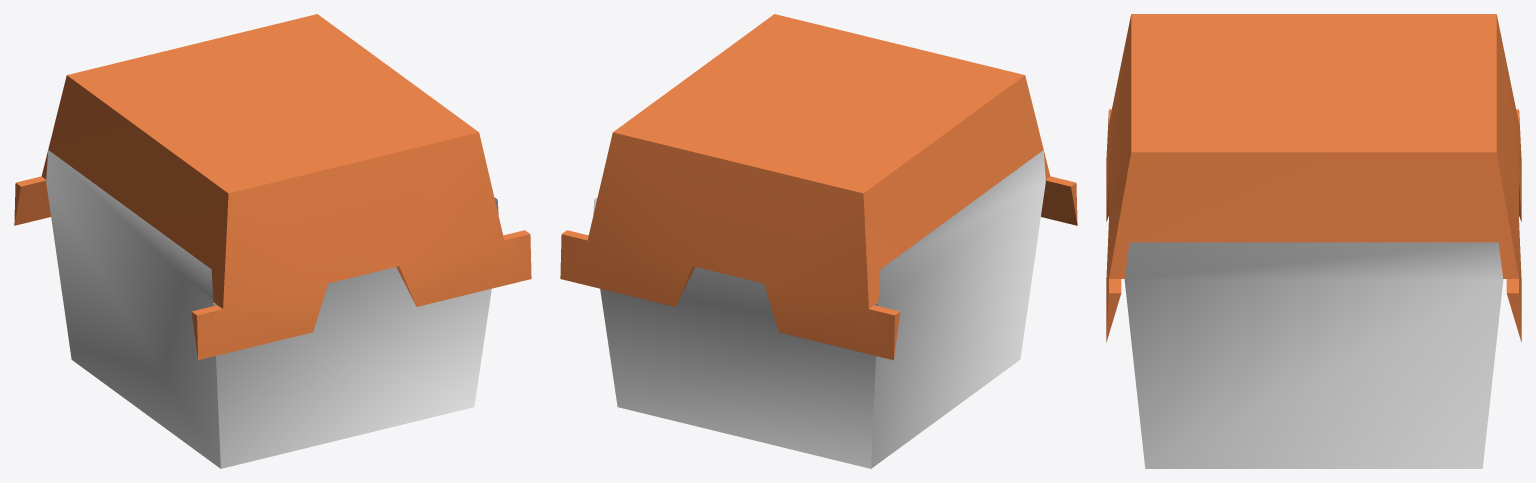
The model's file is Takeout_Box_geo.fbx.
3 renders of one model, left to right at view 1: azimuth 30°, elevation 25°; view 2: azimuth 150°, elevation 25°; view 3: azimuth 270°, elevation 25°, orthographic. The views are drawn at different scales.
Visible parts, largest first — view 1: Takeout_Box_geo; view 2: Takeout_Box_geo; view 3: Takeout_Box_geo.
Boxes of the visible parts, left/top/right/bottom form: Takeout_Box_geo: left=14, top=14, right=531, bottom=468; Takeout_Box_geo: left=560, top=14, right=1077, bottom=468; Takeout_Box_geo: left=1106, top=14, right=1521, bottom=468.
Size of the model in its own units: 0.6214 by 0.5931 by 0.4981.
